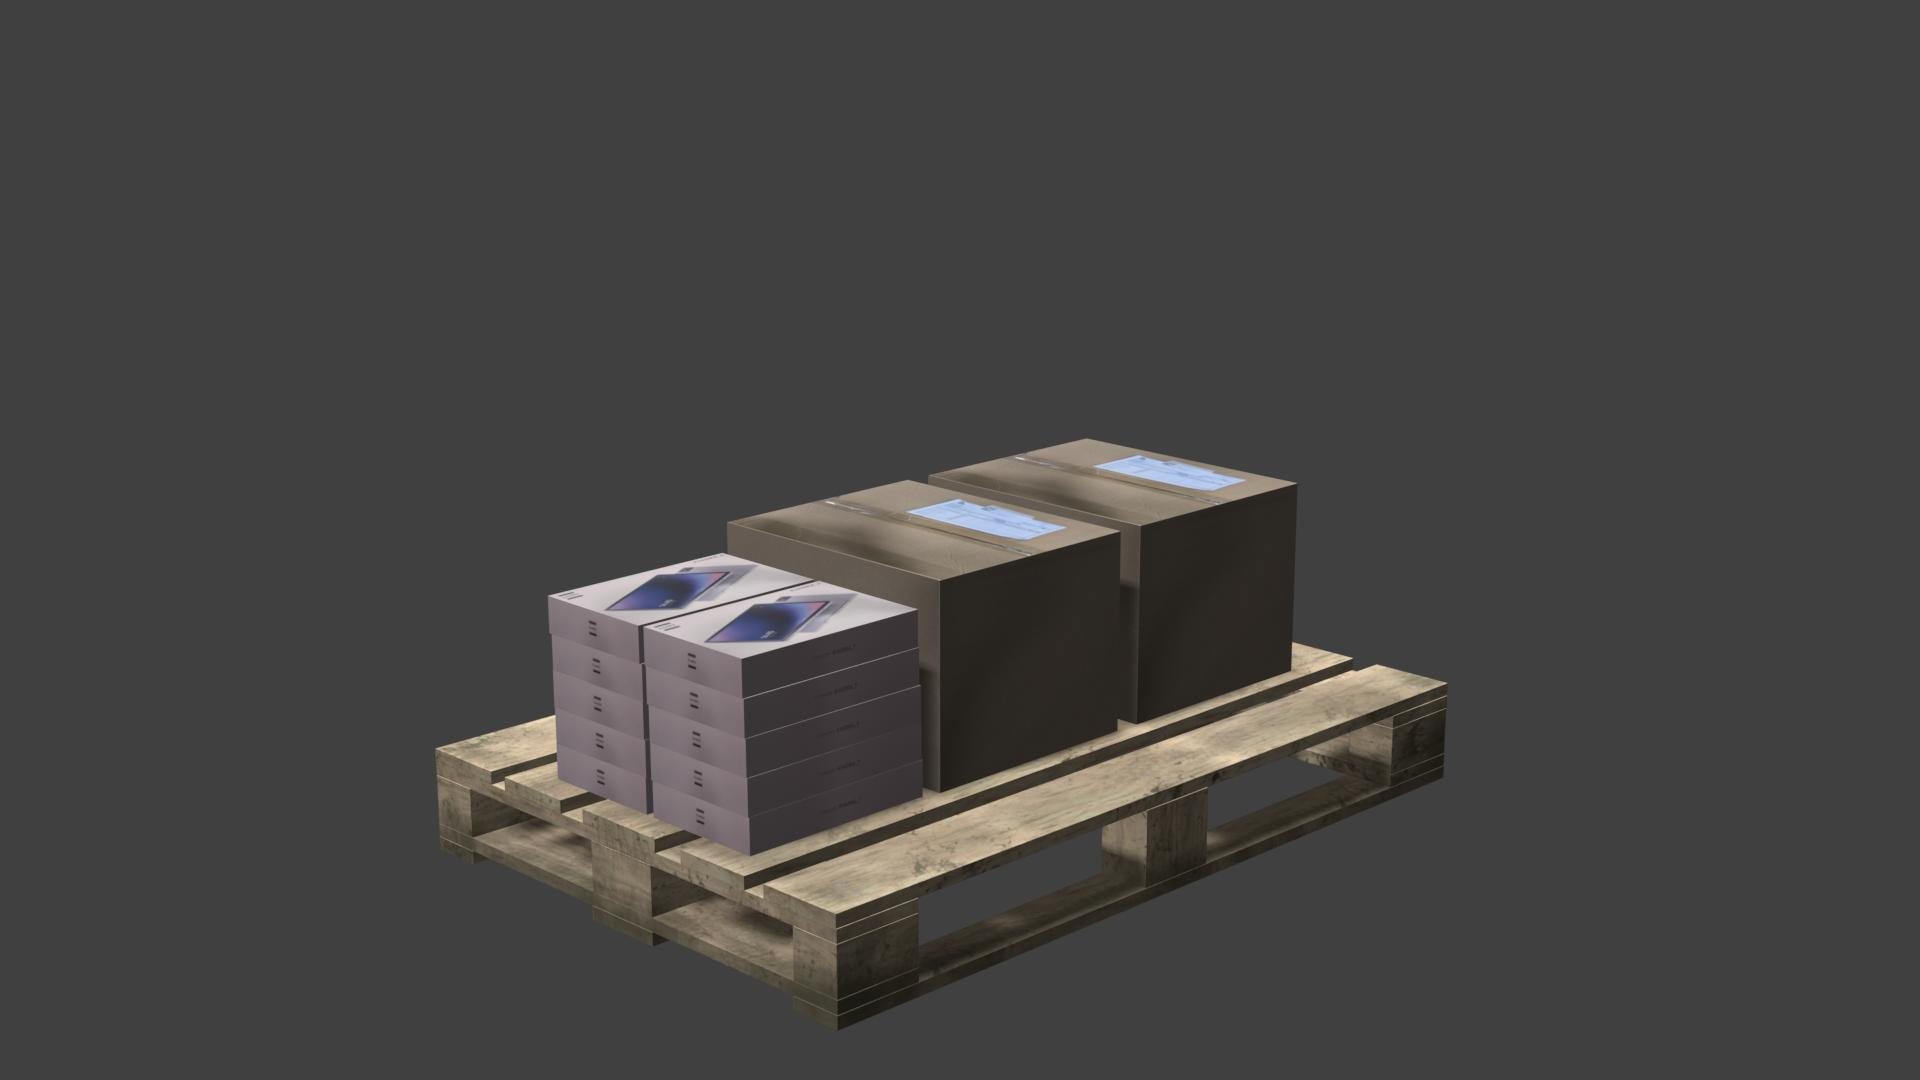group_box_left: (727, 524, 1121, 793), (928, 477, 1298, 724)
group_box_top: (729, 480, 1120, 580), (928, 438, 1296, 526)
palet: (435, 642, 1448, 1033)
tablet_left: (653, 761, 923, 856), (651, 724, 922, 818), (649, 686, 922, 778), (647, 647, 919, 738), (645, 611, 918, 698), (556, 744, 653, 815), (555, 708, 650, 778), (554, 671, 650, 740), (547, 597, 644, 665), (553, 636, 646, 702)
tablet_top: (645, 582, 916, 659), (549, 553, 815, 626)
